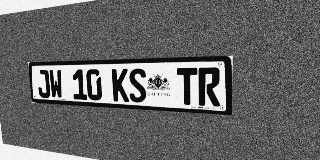0: (86, 69, 102, 101)
1: (72, 69, 87, 100)
J: (36, 70, 51, 98)
K: (112, 69, 129, 102)
R: (198, 67, 220, 106)
S: (128, 68, 147, 103)
T: (177, 68, 198, 105)
W: (49, 70, 63, 99)
